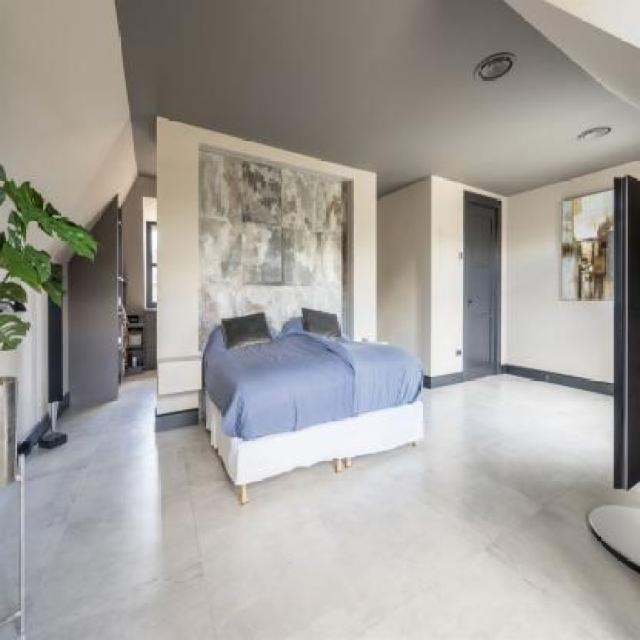floor: (27, 372, 640, 640)
